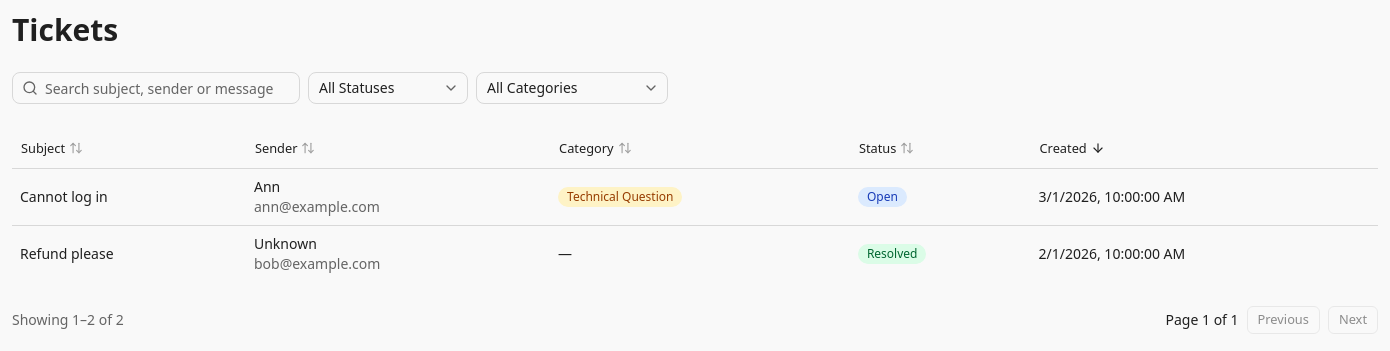
Test: TicketsPage › search and filters › shows a no-match message and clears all filters
Expected: the table is shown, [12,128,1378,282]
Expected: the button "Clear filters" is not shown
In the search field named "Search tickets": (156, 88) [12,72,300,104], type "nothing like this"
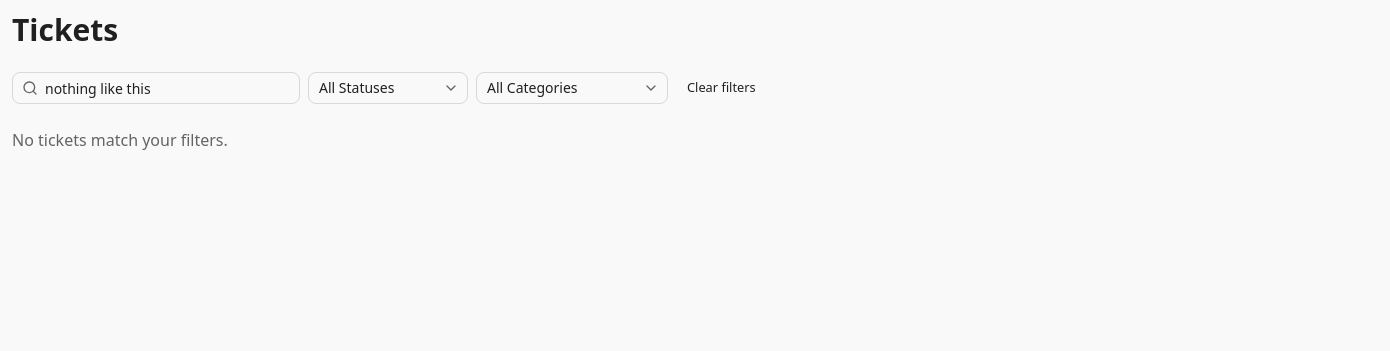
Result: the text "No tickets match your filters." is shown at [12,129,228,151]
Click the button "Clear filters": (721, 88) [676,74,767,102]
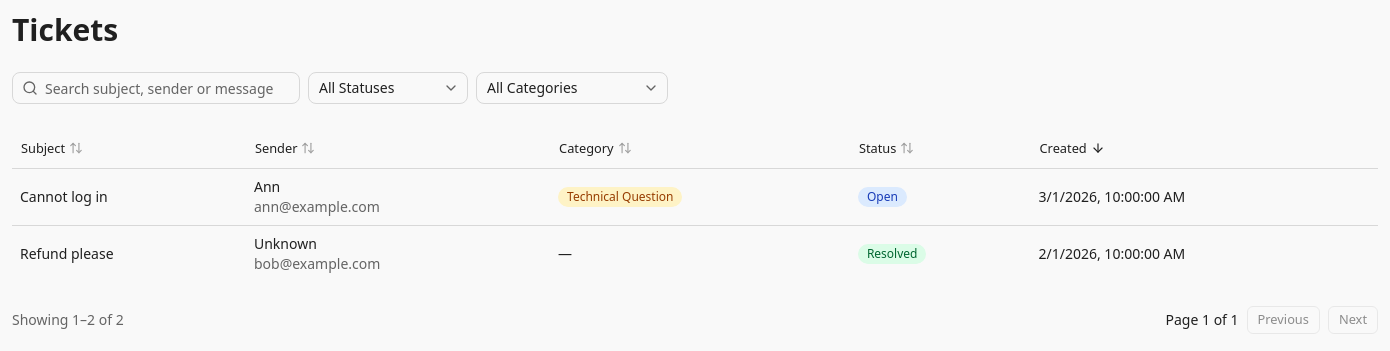
Result: the search field named "Search tickets" is empty at [12,72,300,104]
Result: the table is shown at [12,128,1378,282]
Result: the button "Clear filters" is gone
